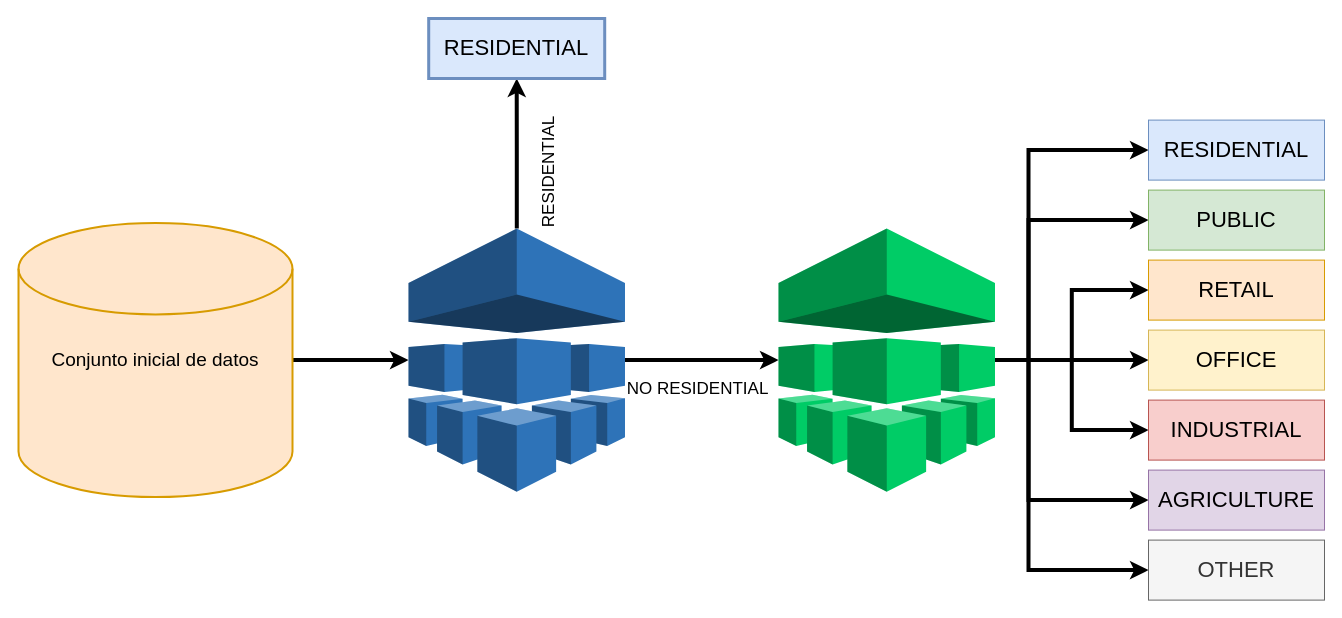
The diagram is 1342 pixels wide and 618 high, and some of its shapes have lost their labels. Here are the shapes that lost their labels. From the top down, the centre of each, then its label:
the point at 516,360: Modelo Binario
the point at 886,360: Modelo Multietiqueta
